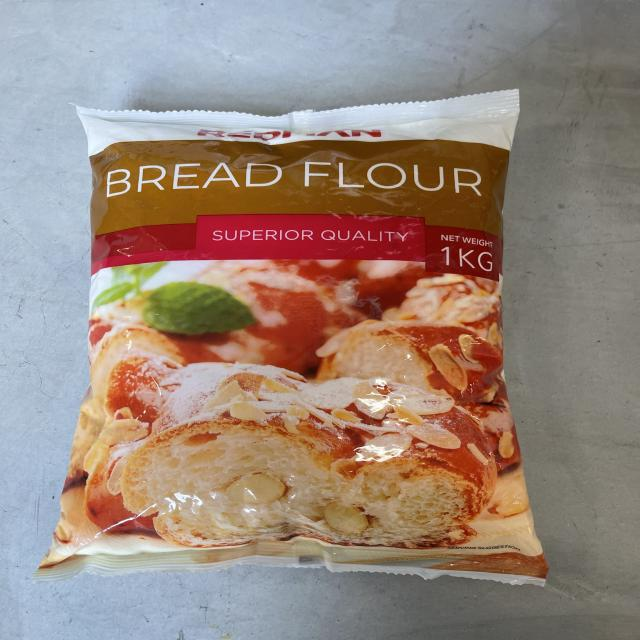object_name: (85, 111, 509, 577)
